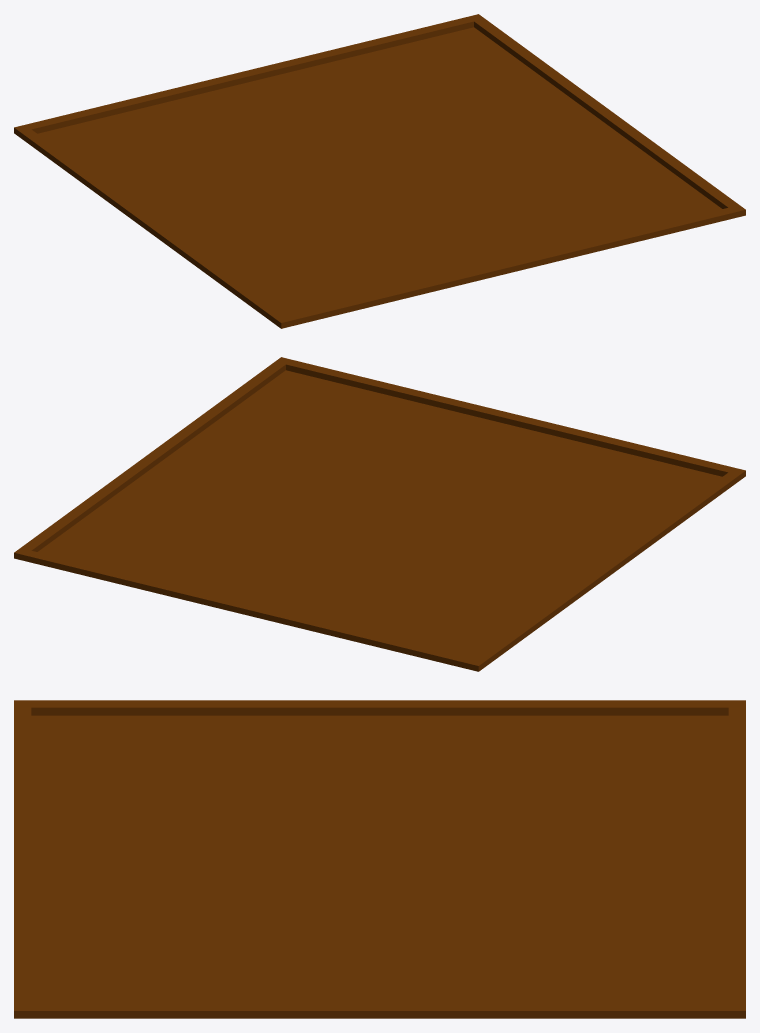
Rendered from Tabuleiro2.obj.
3 renders of one model, top to bottom at view 1: azimuth 30°, elevation 25°; view 2: azimuth 150°, elevation 25°; view 3: azimuth 270°, elevation 25°, orthographic. The views are drawn at different scales.
Visible parts, largest first — view 1: Object.2, Object.4, Object.5, Object.3, Object.1; view 2: Object.2, Object.5, Object.4, Object.1, Object.3; view 3: Object.2, Object.3, Object.1, Object.5, Object.4.
Boxes of the visible parts, bbox=[...] form: Object.2: bbox=[37, 27, 722, 315]; Object.4: bbox=[275, 207, 734, 328]; Object.5: bbox=[25, 14, 484, 133]; Object.3: bbox=[474, 19, 745, 217]; Object.1: bbox=[14, 125, 285, 323]; Object.2: bbox=[37, 370, 722, 658]; Object.5: bbox=[14, 548, 473, 668]; Object.4: bbox=[286, 360, 745, 480]; Object.1: bbox=[467, 472, 739, 671]; Object.3: bbox=[21, 357, 291, 551]; Object.2: bbox=[31, 715, 728, 1003]; Object.3: bbox=[14, 1003, 728, 1018]; Object.1: bbox=[31, 700, 745, 715]; Object.5: bbox=[728, 707, 745, 1018]; Object.4: bbox=[14, 700, 31, 1003].
Size of the model in its own units: 84 by 1 by 83.66.
